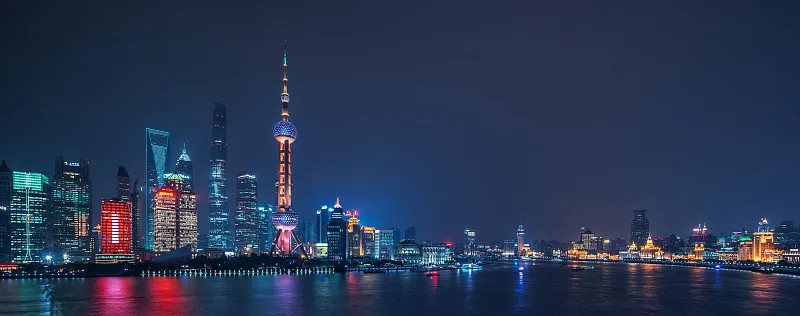Oriental: (267, 38, 310, 258)
